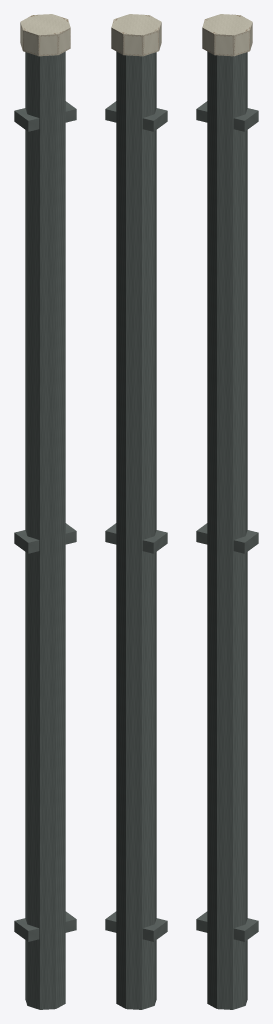
The model's file is FencePost.fbx.
3 renders of one model, left to right at view 1: azimuth 30°, elevation 25°; view 2: azimuth 150°, elevation 25°; view 3: azimuth 330°, elevation 25°, orthographic.
Visible parts, largest first — view 1: FencePost; view 2: FencePost; view 3: FencePost.
Part boxes in pixels (x1,y1,x2,y2): FencePost: (14,14,76,1009); FencePost: (105,14,167,1009); FencePost: (196,14,258,1009).
Bounding box in the file's own units: 12 × 232 × 11.2.
